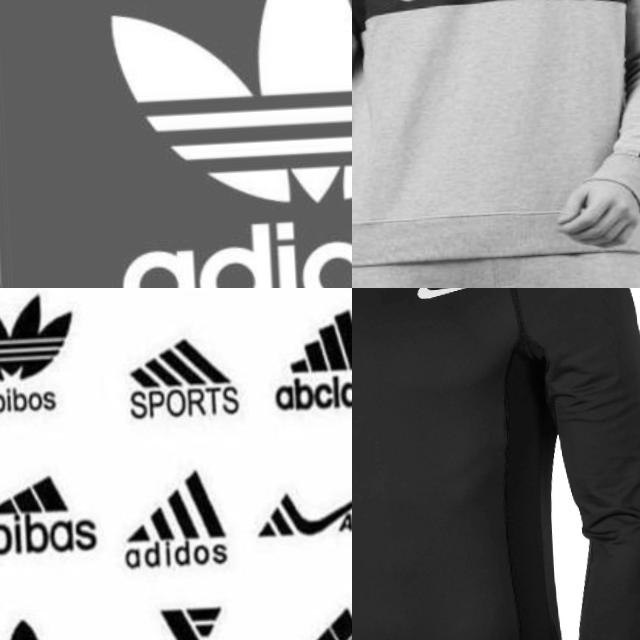ADIDAS_fake: (112, 306, 247, 434), (115, 456, 242, 580), (0, 447, 113, 584), (250, 449, 352, 573), (0, 288, 76, 424), (265, 310, 352, 428), (116, 585, 262, 640)
ADIDAS_original: (78, 0, 352, 288), (92, 0, 352, 219), (110, 198, 352, 288)
NIKE_original: (384, 288, 512, 331)
